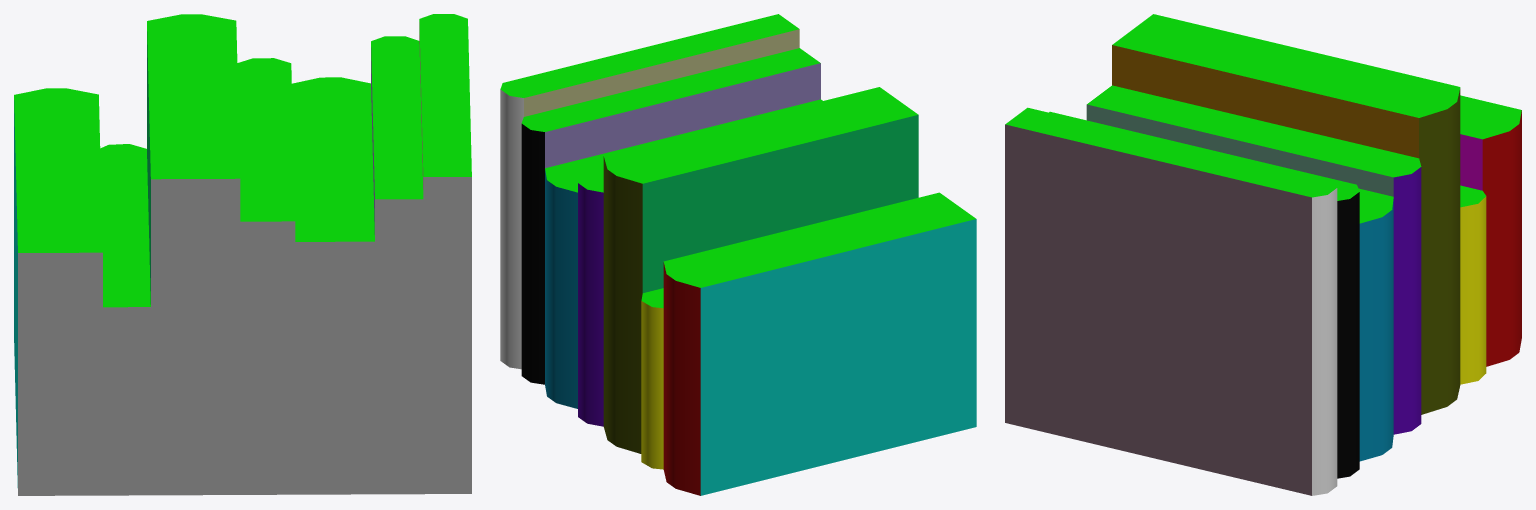
Rendered from BooksBlock01ID.fbx.
The picture shows the model from 3 angles, left to right: view 1: azimuth 30°, elevation 25°; view 2: azimuth 150°, elevation 25°; view 3: azimuth 270°, elevation 25°; orthographic projection. The views are drawn at different scales.
Visible parts, largest first — view 1: pCube136; view 2: pCube136; view 3: pCube136.
Boxes of the visible parts, x1,y1,x2,y2 form: pCube136: (14,14,471,495); pCube136: (500,14,976,495); pCube136: (1005,14,1521,495).
Size of the model in its own units: 58.25 by 35.18 by 55.2.
